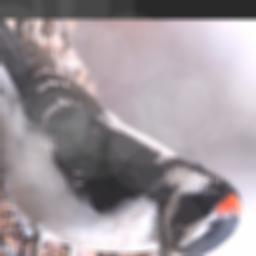Woodpecker: (0, 22, 248, 256)
